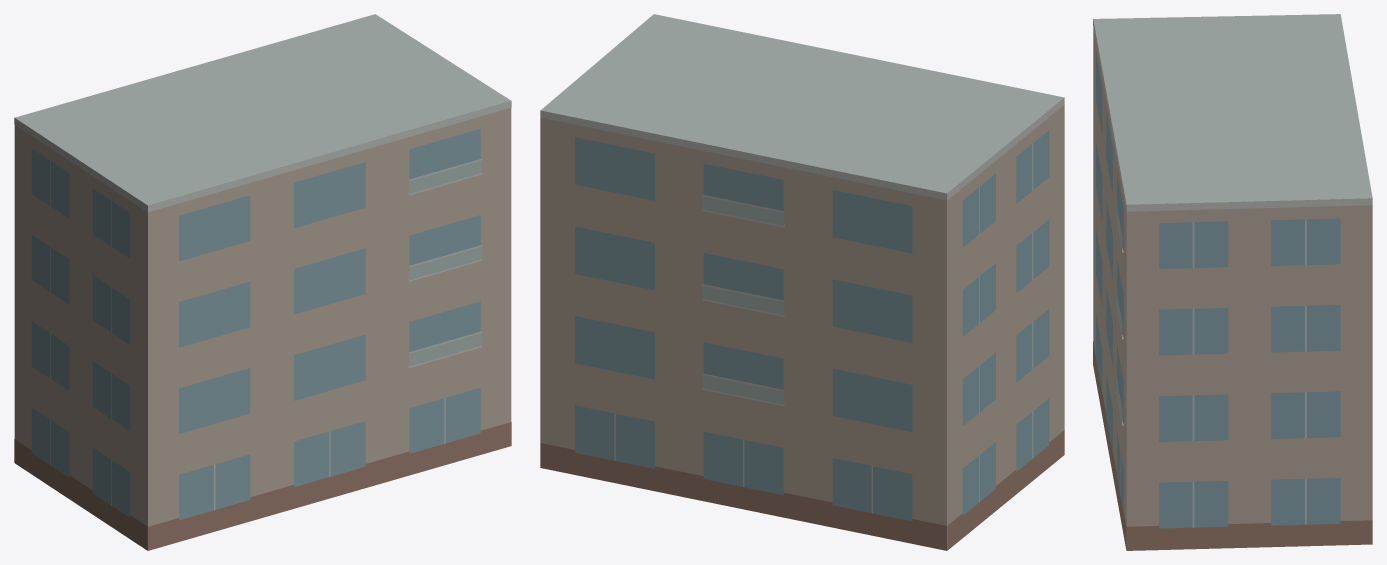
File: survey-upis-33001575.glb
3 renders of one model, left to right at view 1: azimuth 30°, elevation 25°; view 2: azimuth 150°, elevation 25°; view 3: azimuth 270°, elevation 25°, orthographic. The views are drawn at different scales.
Visible parts, largest first — view 1: survey-upis-33001575.tmp; view 2: survey-upis-33001575.tmp; view 3: survey-upis-33001575.tmp.
Boxes of the visible parts, x1=… form: survey-upis-33001575.tmp: x1=14, y1=14, x2=511, y2=550; survey-upis-33001575.tmp: x1=540, y1=14, x2=1064, y2=550; survey-upis-33001575.tmp: x1=1093, y1=14, x2=1372, y2=550.
Size of the model in its own units: 14.43 by 12.2 by 8.94.
